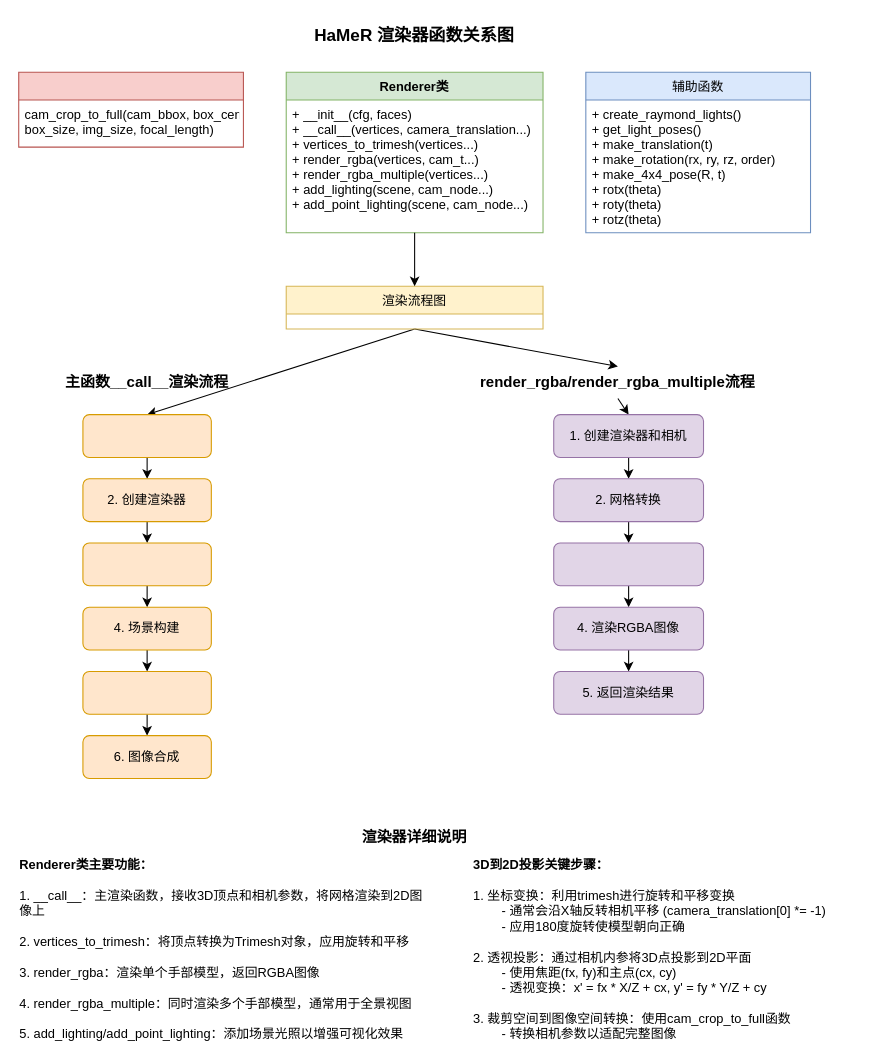
This 872x1064 diagram has some shape labels left out. Each missing label, with the box of its shape:
1. 输入处理: (82, 414, 211, 457)
3. 添加场景照明: (553, 542, 704, 586)
3. 网格处理: (82, 542, 211, 586)
5. 渲染: (82, 670, 211, 714)
坐标转换函数: (18, 71, 243, 147)
